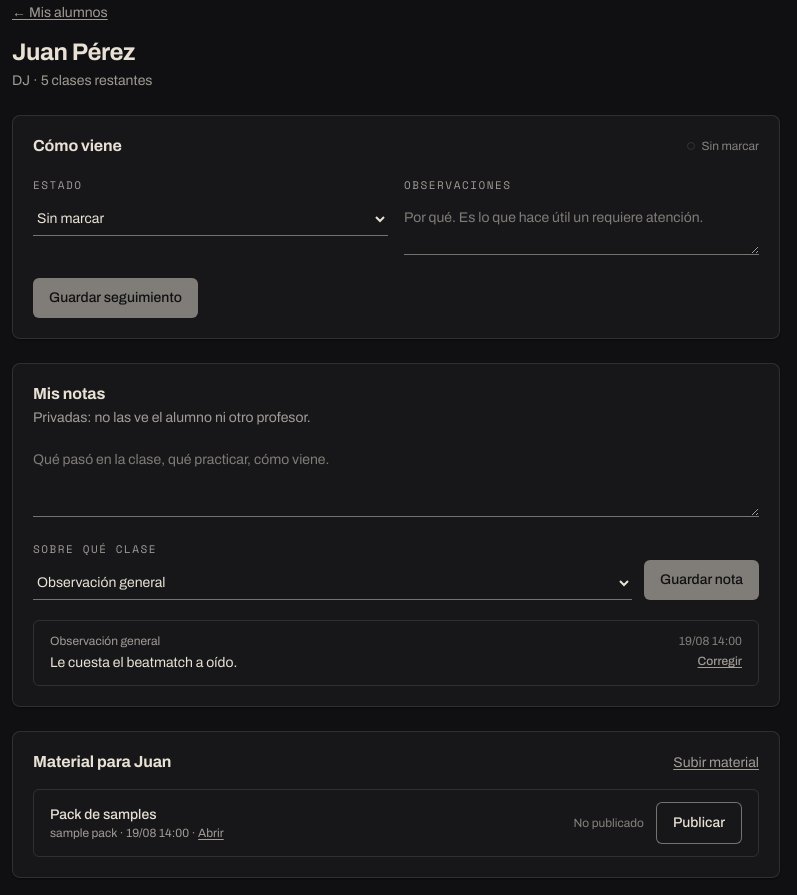
Test case: el material › publicarlo es lo que lo hace visible para el alumno
The width and height of the screenshot is (797, 895).
Click the button "Publicar" at (699, 823), box [656,802,742,844]
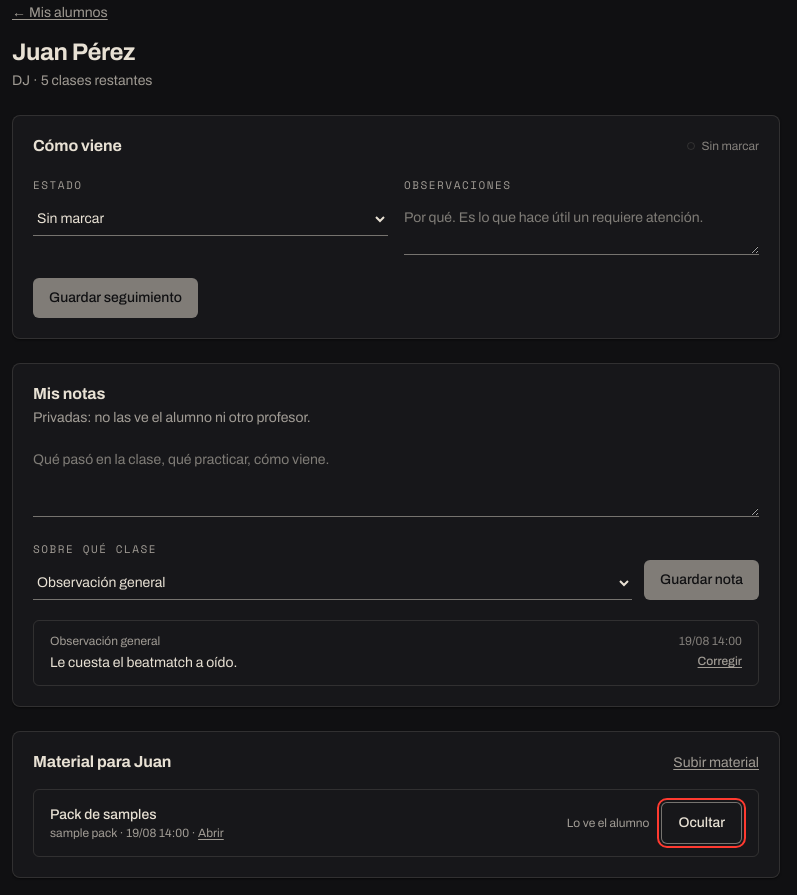
Expected: the text "Lo ve el alumno" is shown, [567,815,649,831]
